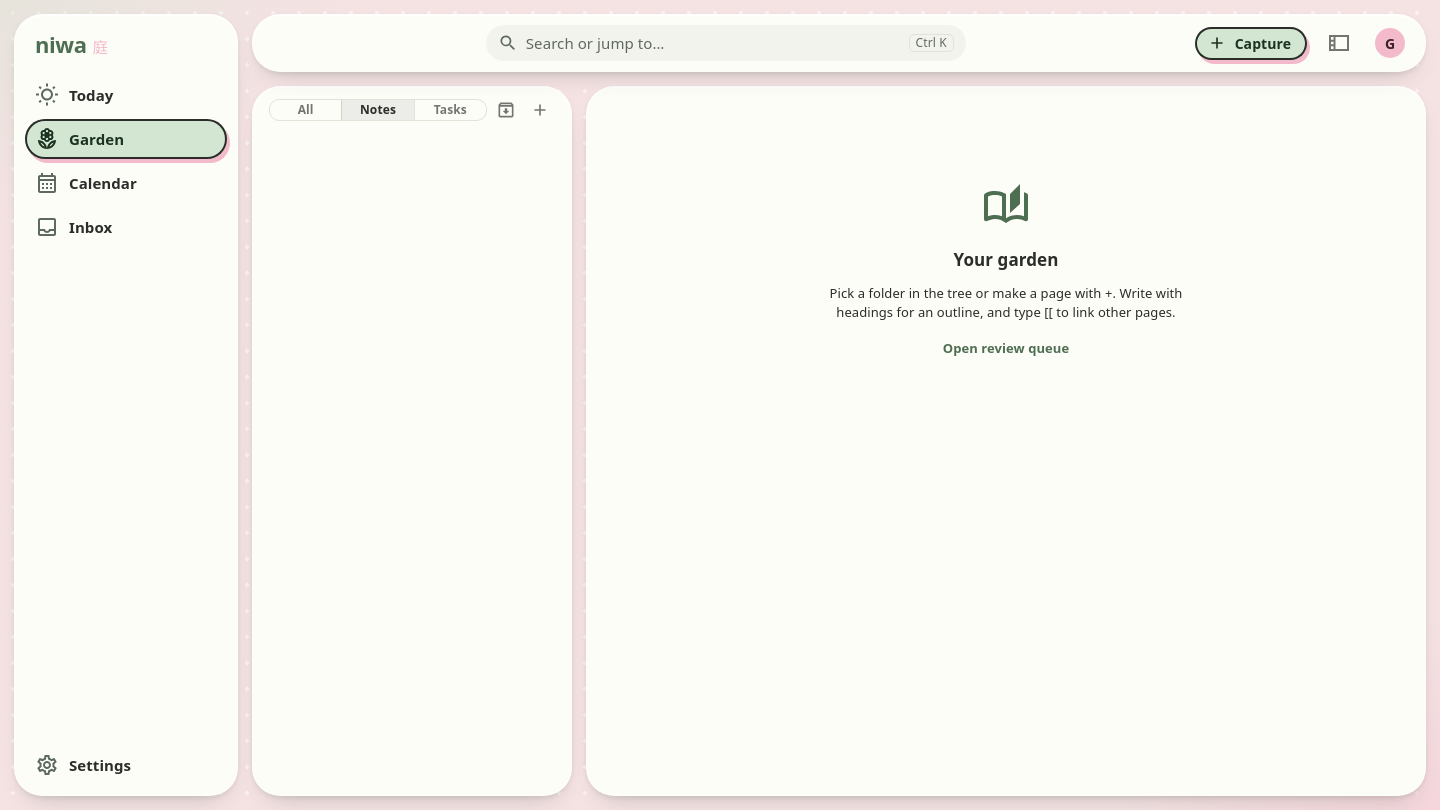
Test: app shell › the command box jumps to places and searches everything
Click the button "Search or jump to… Ctrl K" at (595, 43), box 486,25 -> 966,61
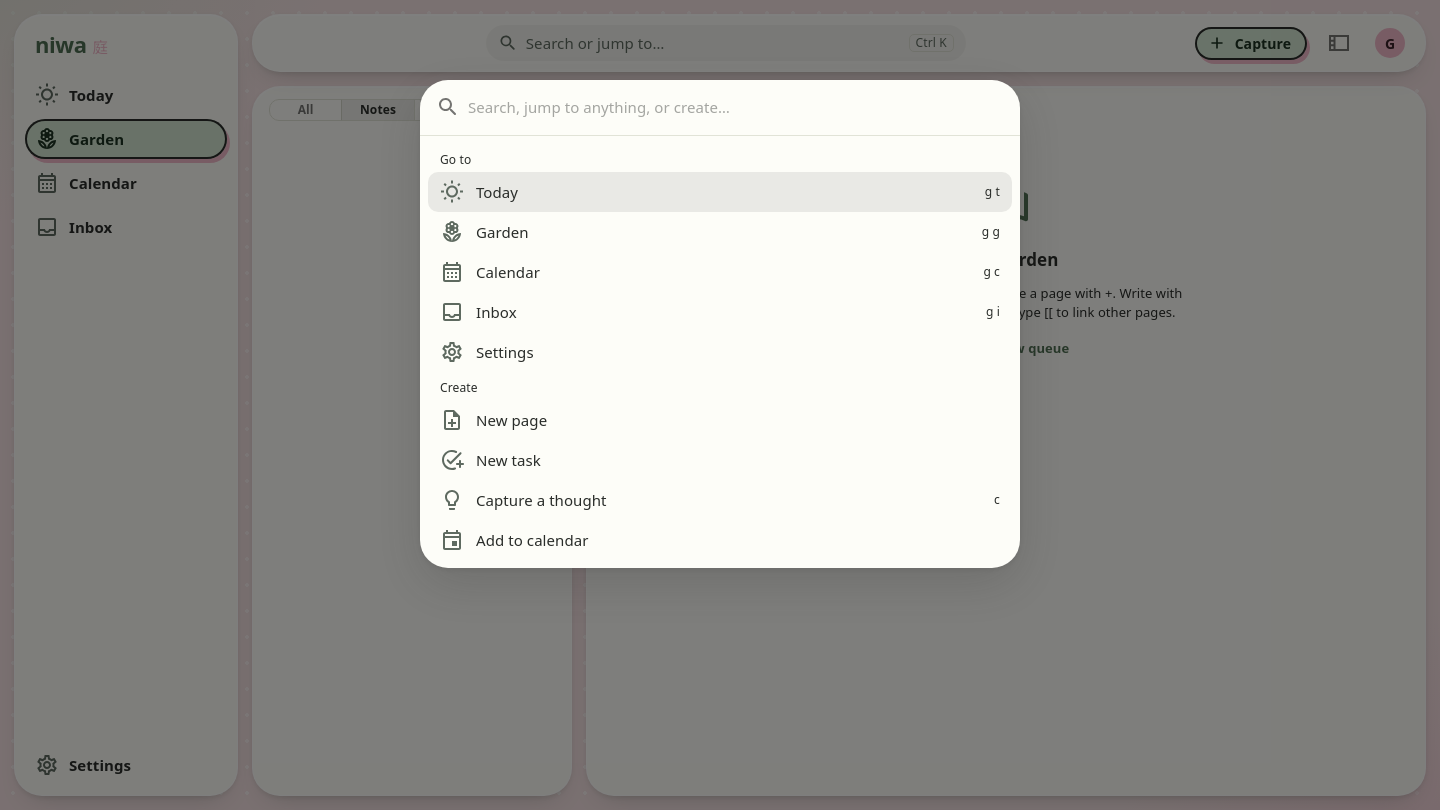
Type "inb" into the dropdown named "Search or jump to" at (736, 107), box 468,92 -> 1004,123
Then press Enter
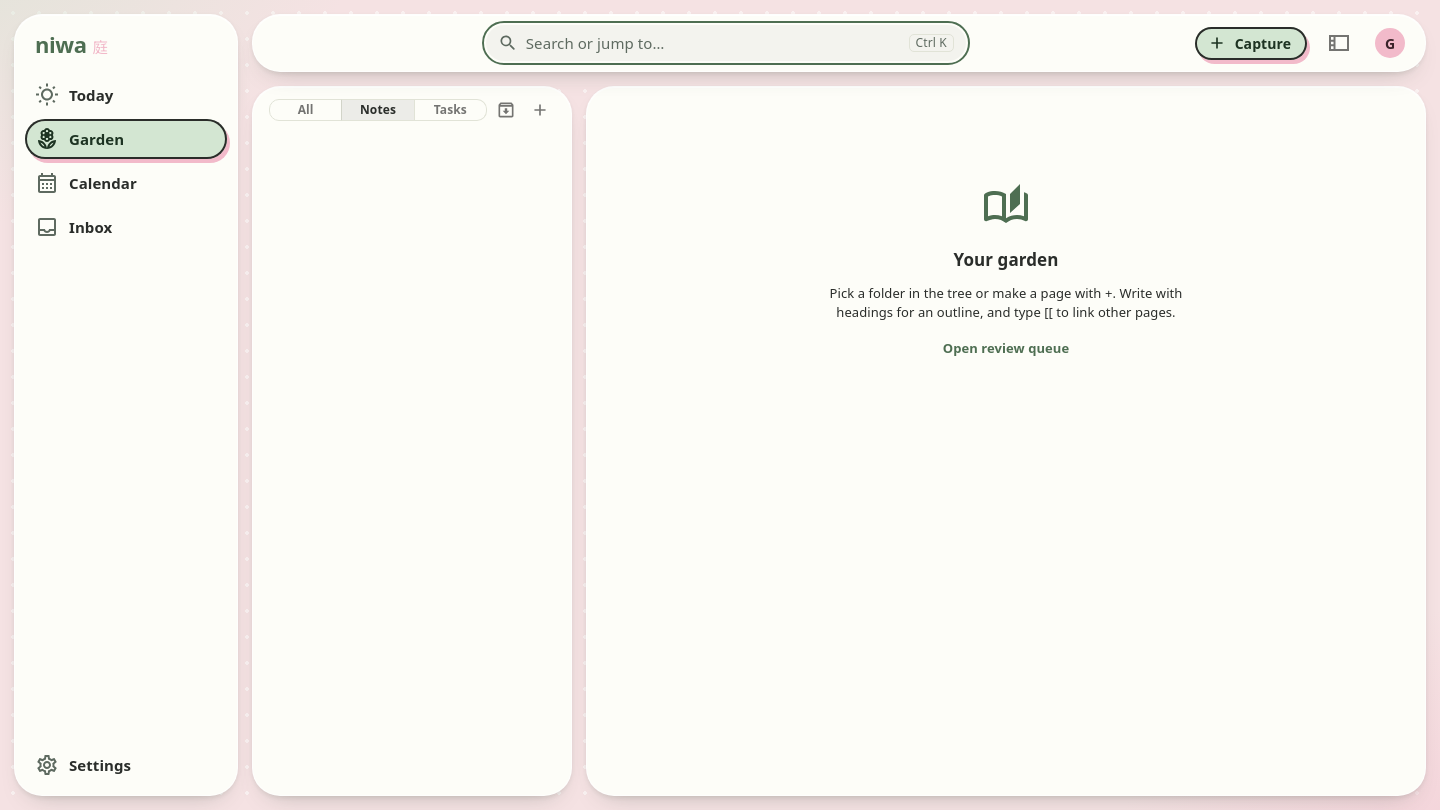
Type keys "{Control>}k{/Control}"
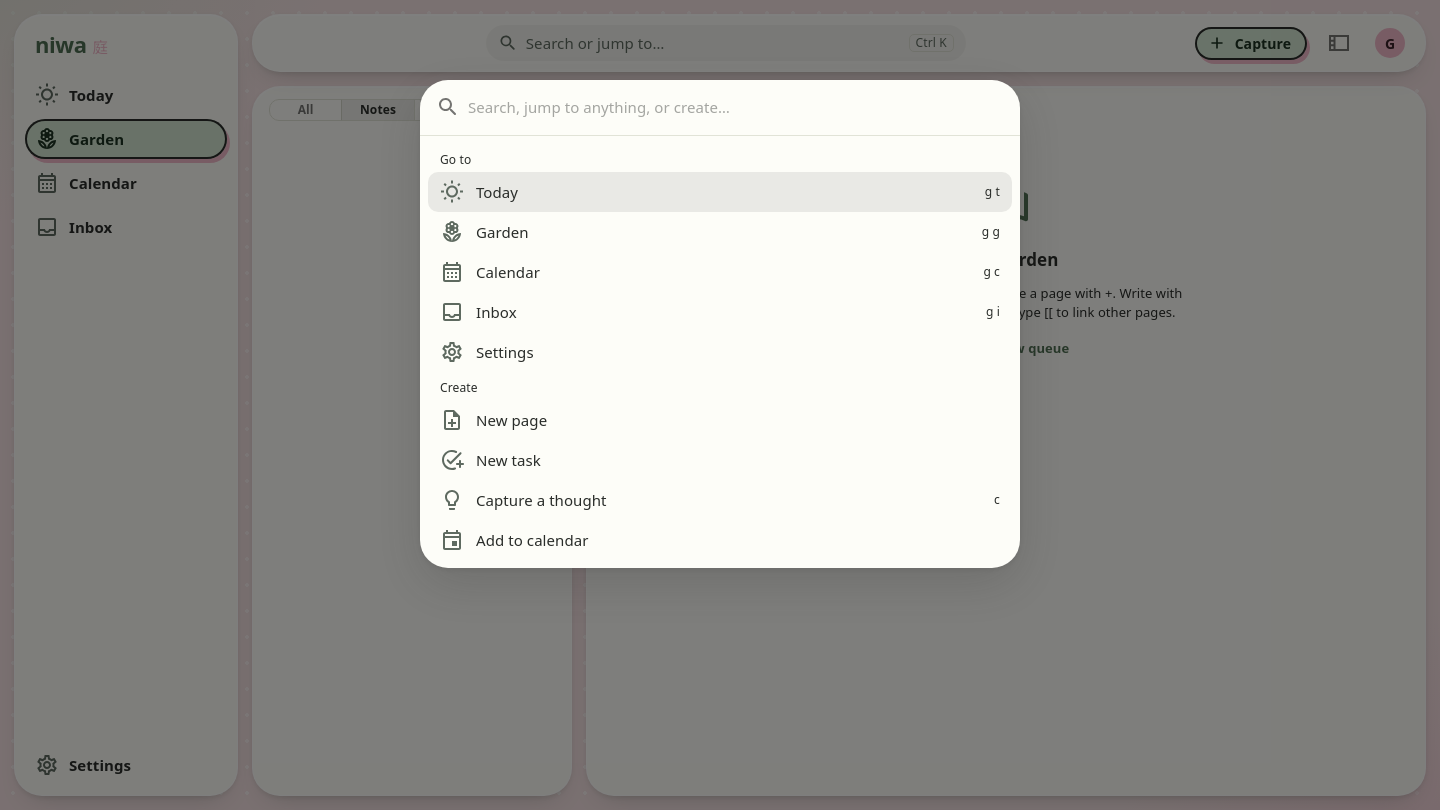
Type "bgp routing" into the dropdown named "Search or jump to" at (736, 107), box 468,92 -> 1004,123
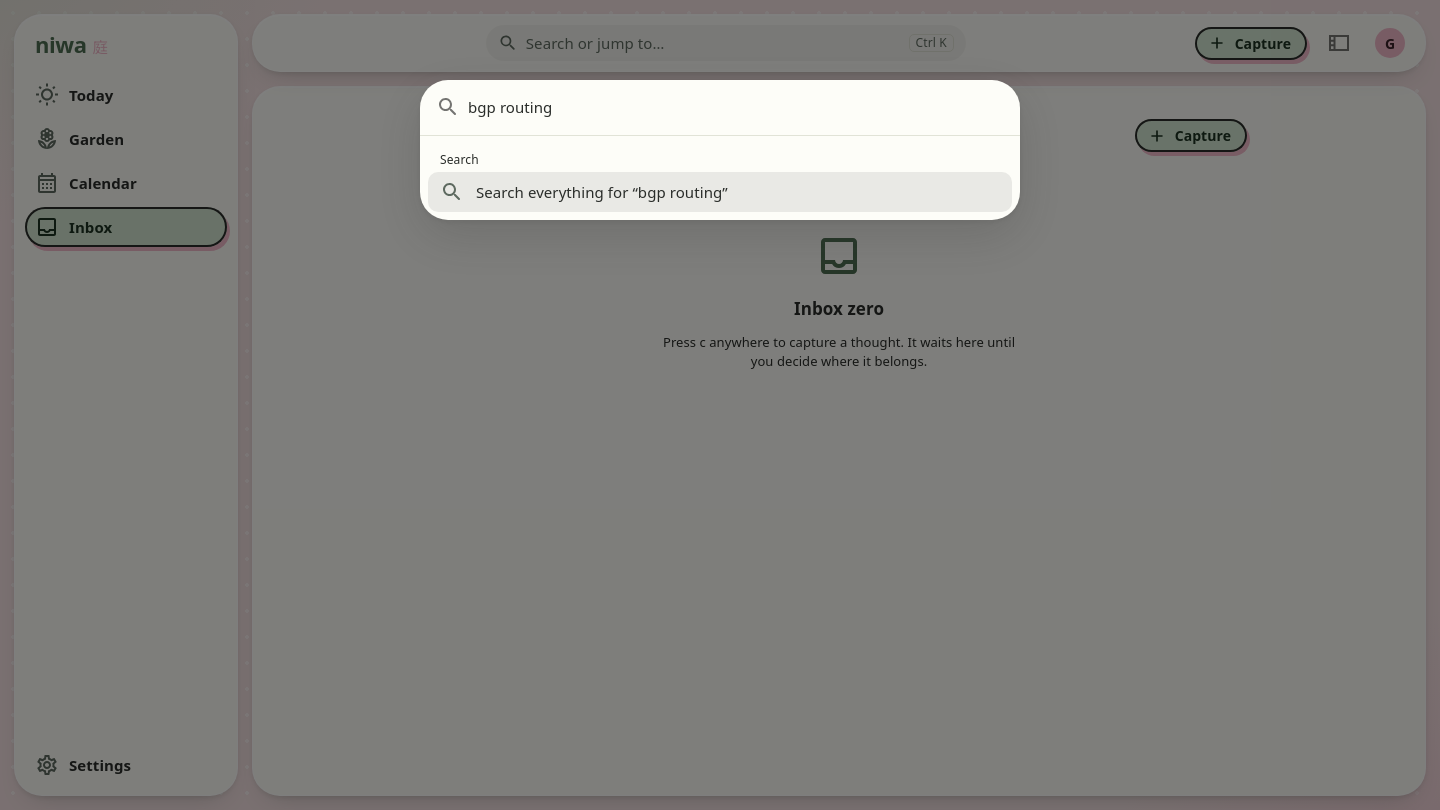
Click the option "Search everything for “bgp routing”" at (720, 192), box 428,172 -> 1012,212
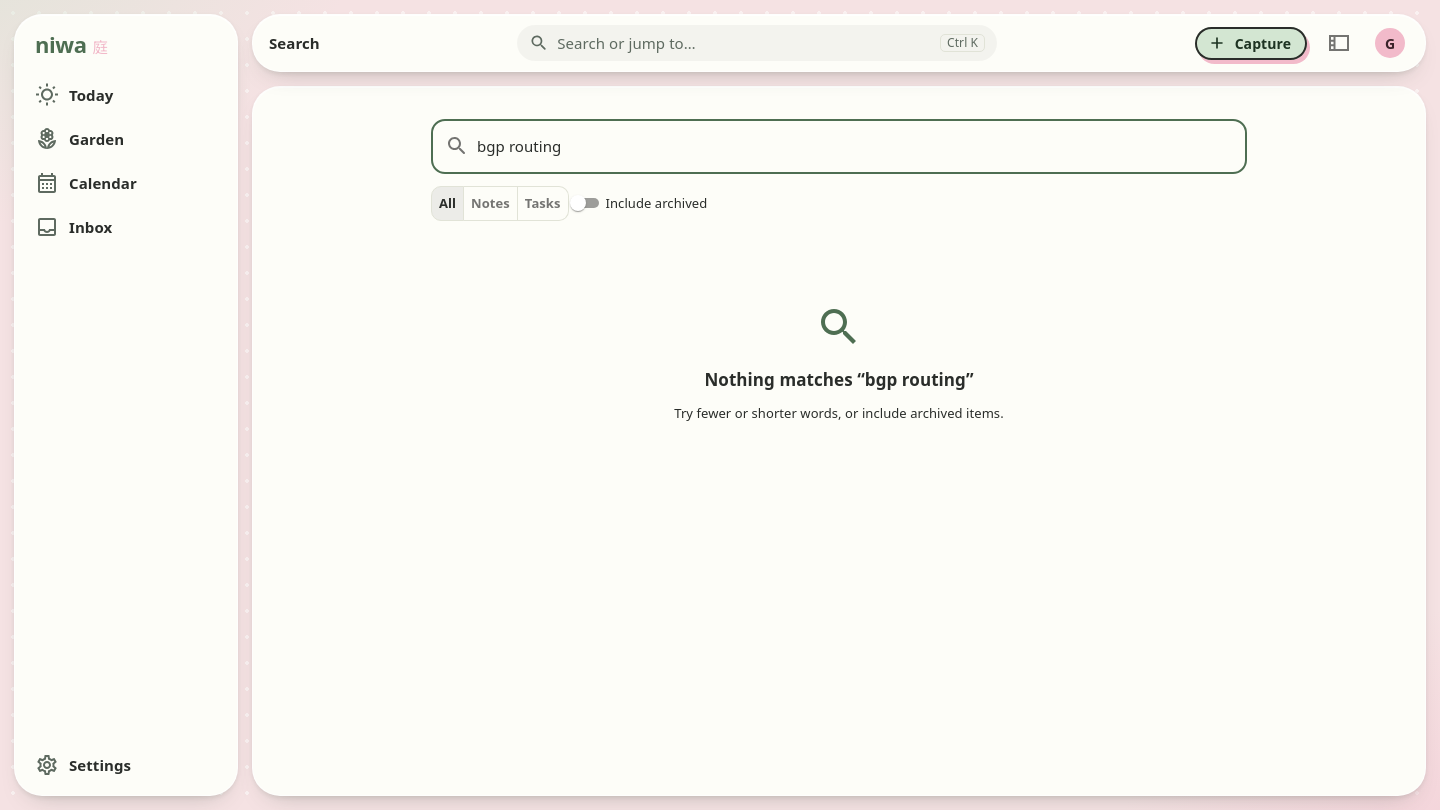
Check: the field named "Search query" holds "bgp routing", box 477,119 -> 1247,174
Check: the text "Nothing matches “bgp routing”" is shown, box 704,369 -> 974,392
